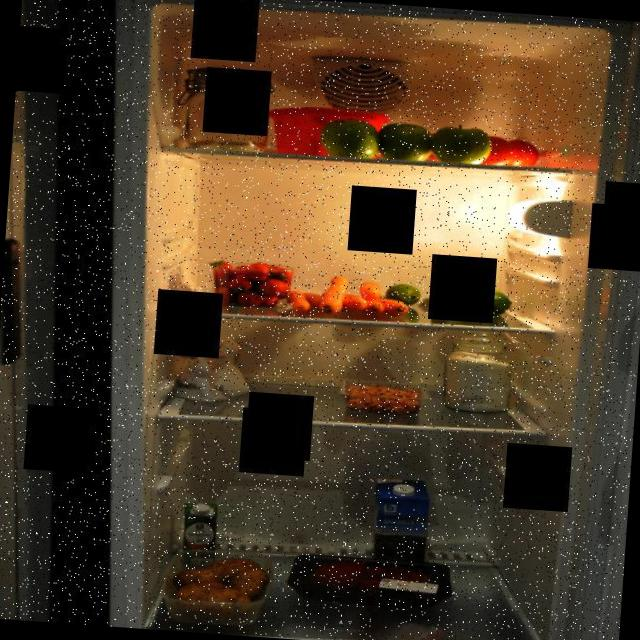Carne vacuno: (282, 548, 456, 614)
Gambas/Langostinos: (344, 379, 424, 415)
Leche: (364, 474, 436, 572)
Mantequilla: (262, 100, 388, 160)
Manzana: (314, 110, 500, 170)
Patata: (160, 542, 277, 630)
Tomate: (480, 130, 547, 170)
Zanahoria: (284, 268, 413, 323)
